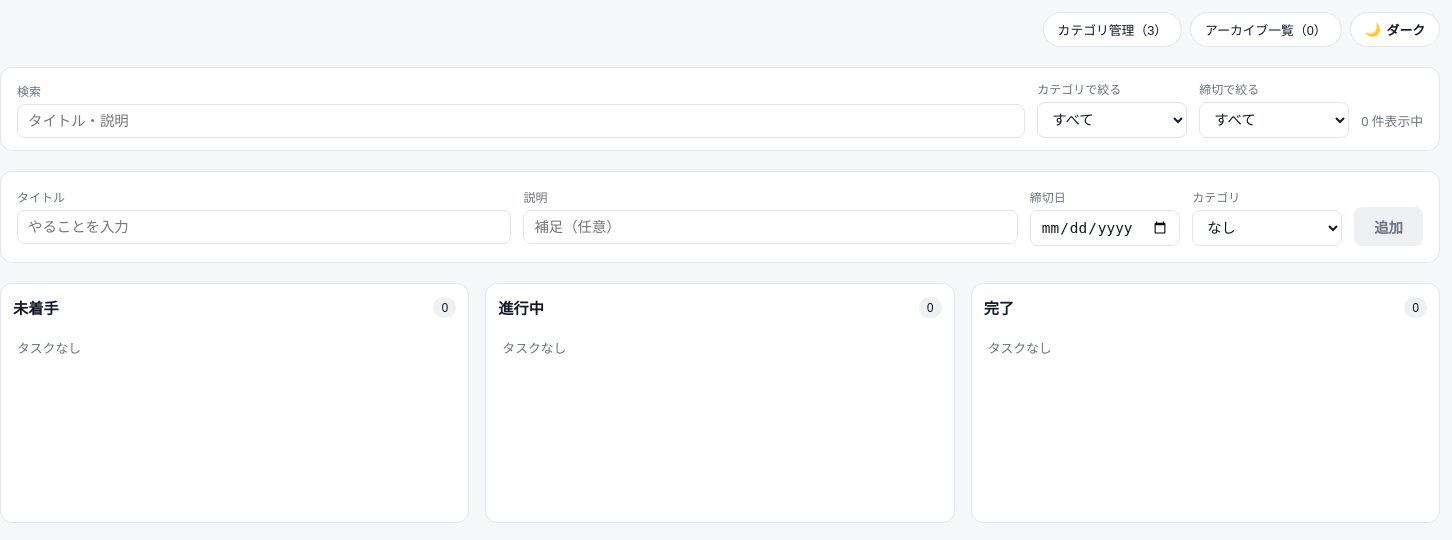
Test case: KanbanBoard › 追加したタスクは未着手の列に並ぶ
The image size is (1452, 540).
In the field labelled "タイトル": (264, 227) left=17, top=210, right=511, bottom=244, type "設計する"
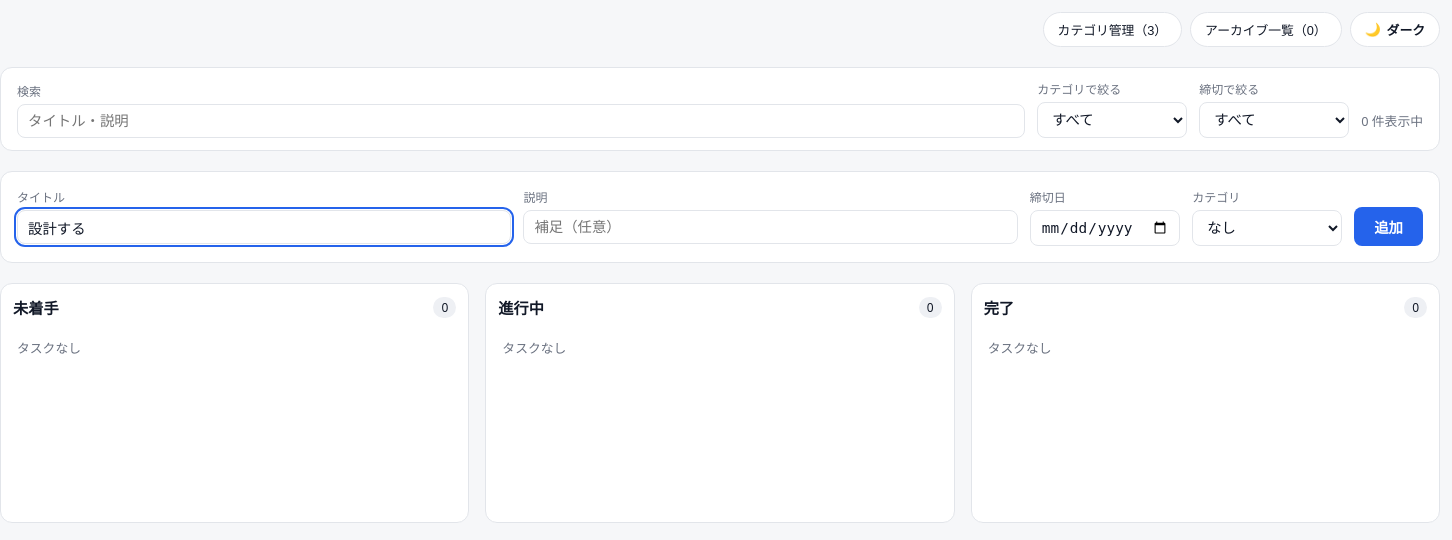
In the field labelled "説明": (771, 227) left=523, top=210, right=1018, bottom=244, type "画面構成"
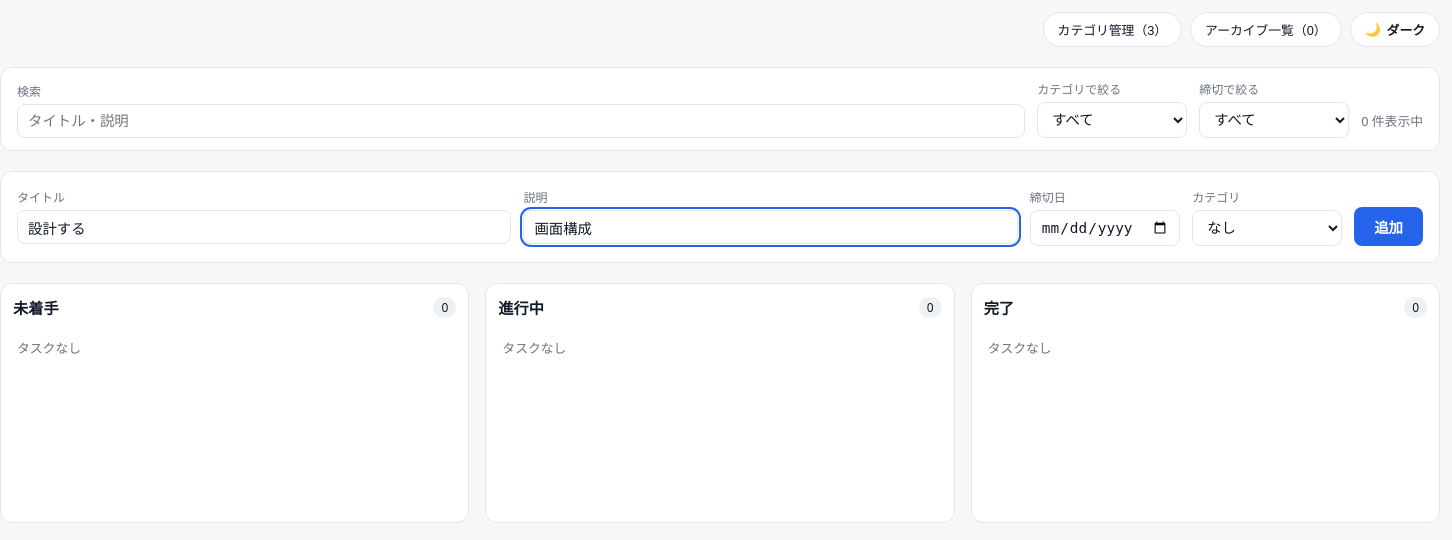
Select "仕事" in the dropdown labelled "カテゴリ": (1267, 228) left=1192, top=210, right=1342, bottom=246
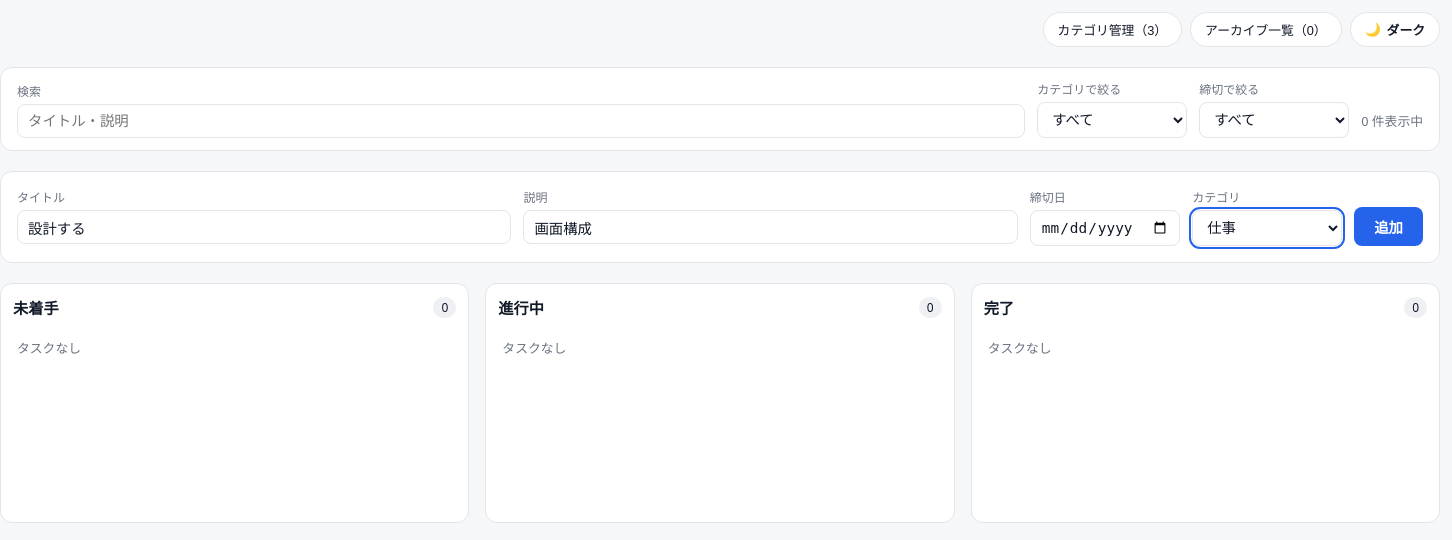
Click the button "追加": (1389, 227) left=1354, top=207, right=1423, bottom=246
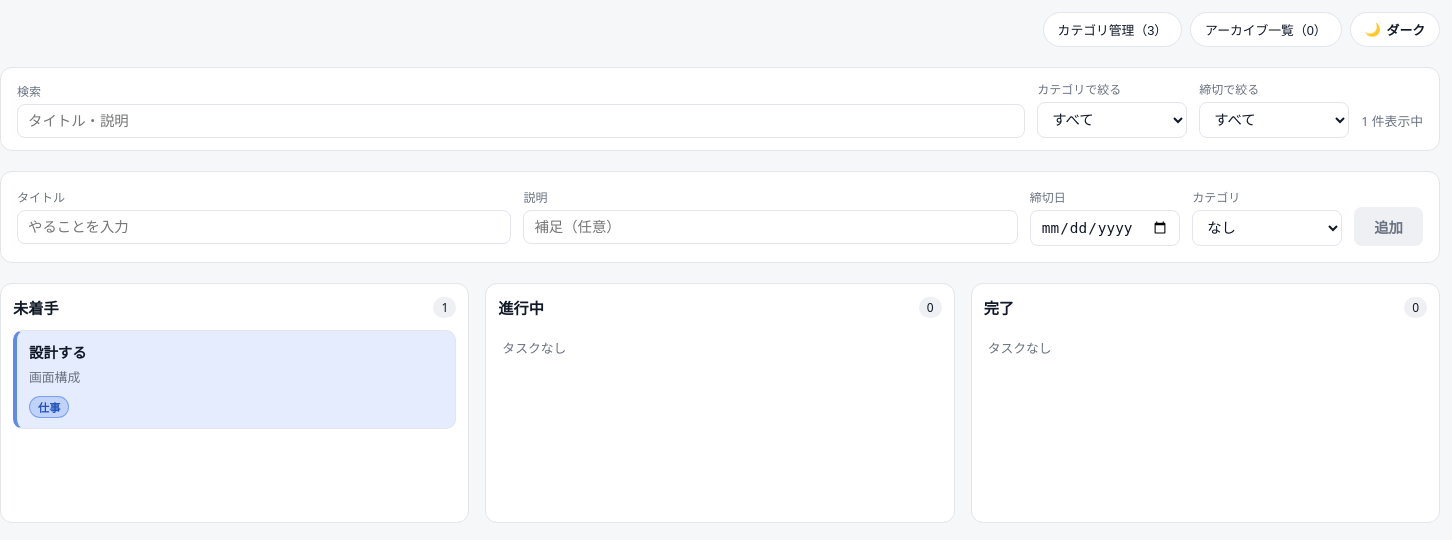
expect the heading "設計する" is shown: met, box left=29, top=343, right=87, bottom=362
expect the text "画面構成" is shown: met, box left=29, top=368, right=80, bottom=386
expect the text "仕事" is shown: met, box left=29, top=396, right=69, bottom=418
